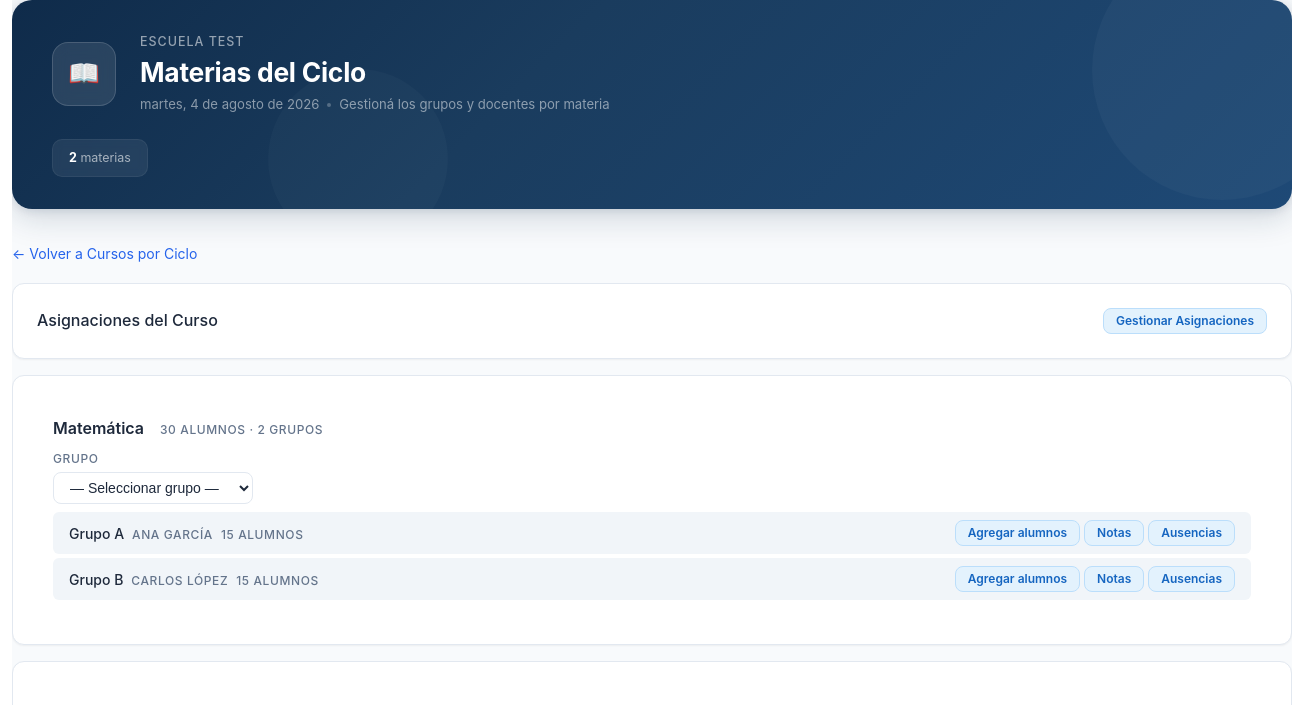
MateriasGruposPage — alumnos per grupo › F7-T9: shows available alumnos when "Agregar alumnos" is clicked
Expected: the text "Matemática" is shown, [53,418,144,438]
# Click "Agregar alumnos" on the first grupo
Click the button with test id "btn-agregar-alumnos" in the row of "Grupo A": (1017, 533) [955,520,1080,546]
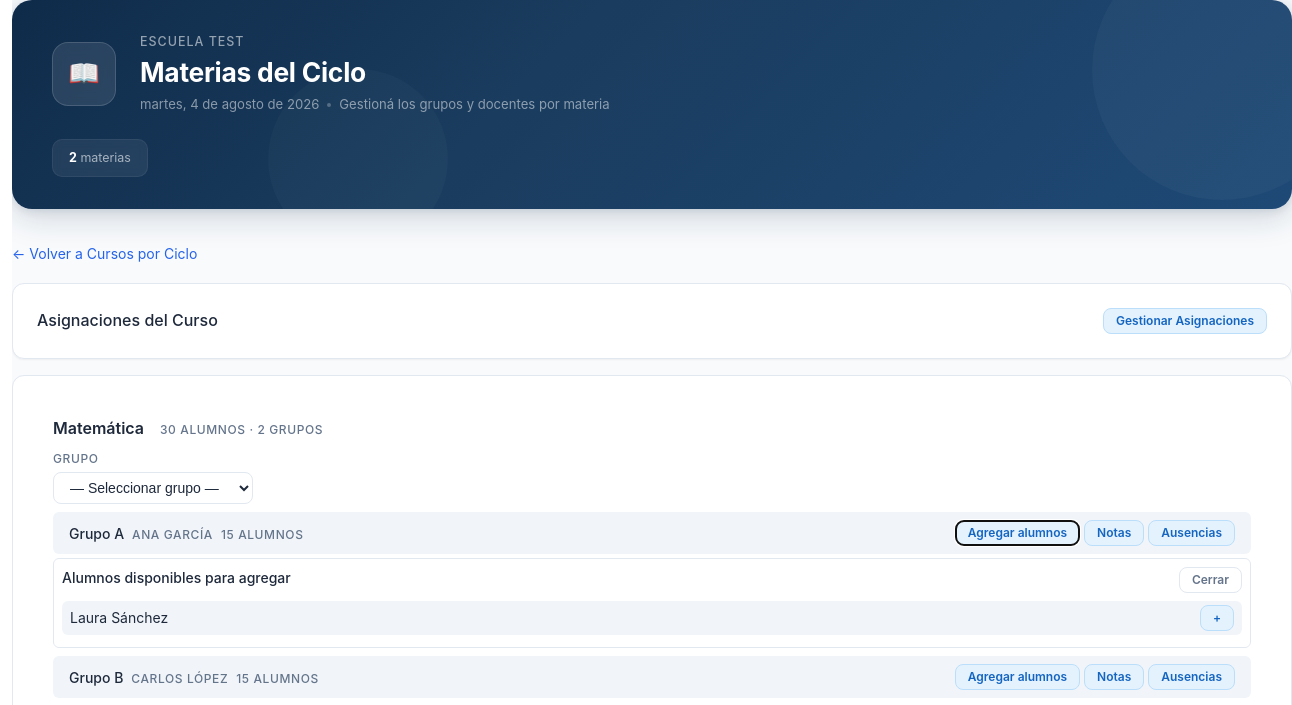
Result: the element with test id "alumnos-panel" is shown at [53,558,1251,648]
Result: the text "Laura Sánchez" is shown at [70,607,168,630]
